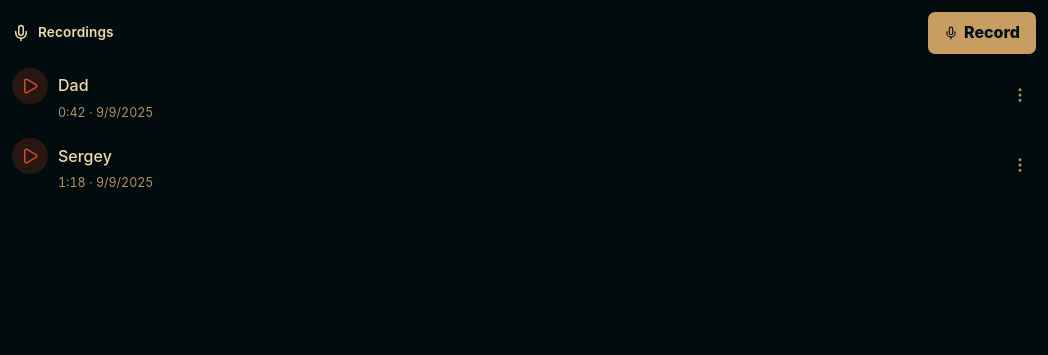
Test: VoiceNotes current recording follows the list › drops the player when the chosen recording is removed from the list
Click the button named "Play the recording by Dad" at {"x": 30, "y": 86}, box [12,68,48,104]
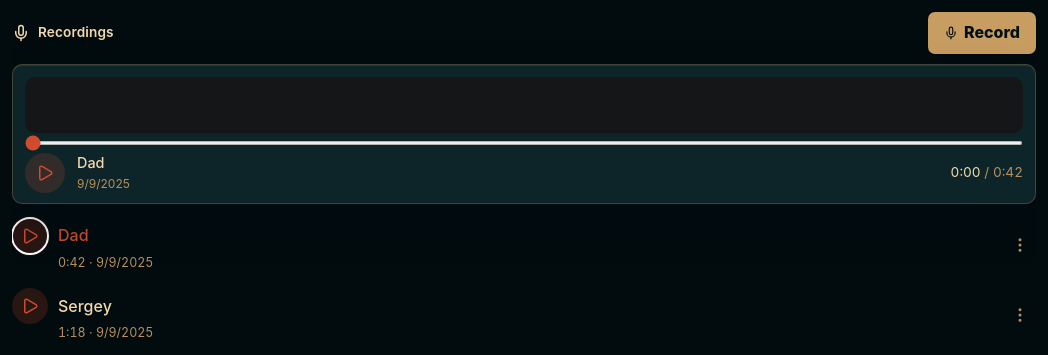
Now the element named "Now playing: Dad" is shown, box [12,64,1036,204]
